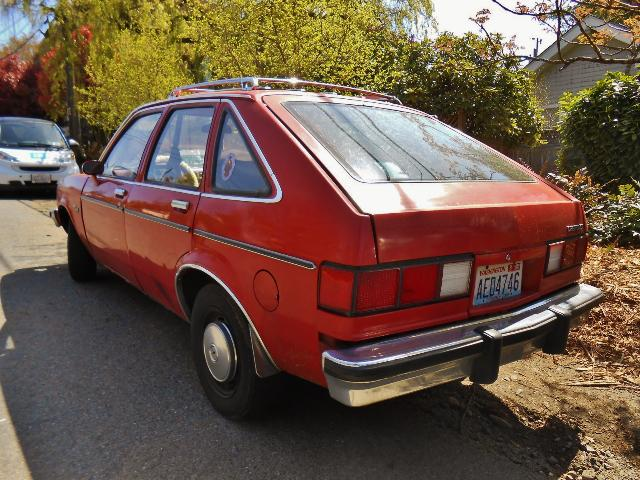chevette-1983: (52, 77, 601, 419)
